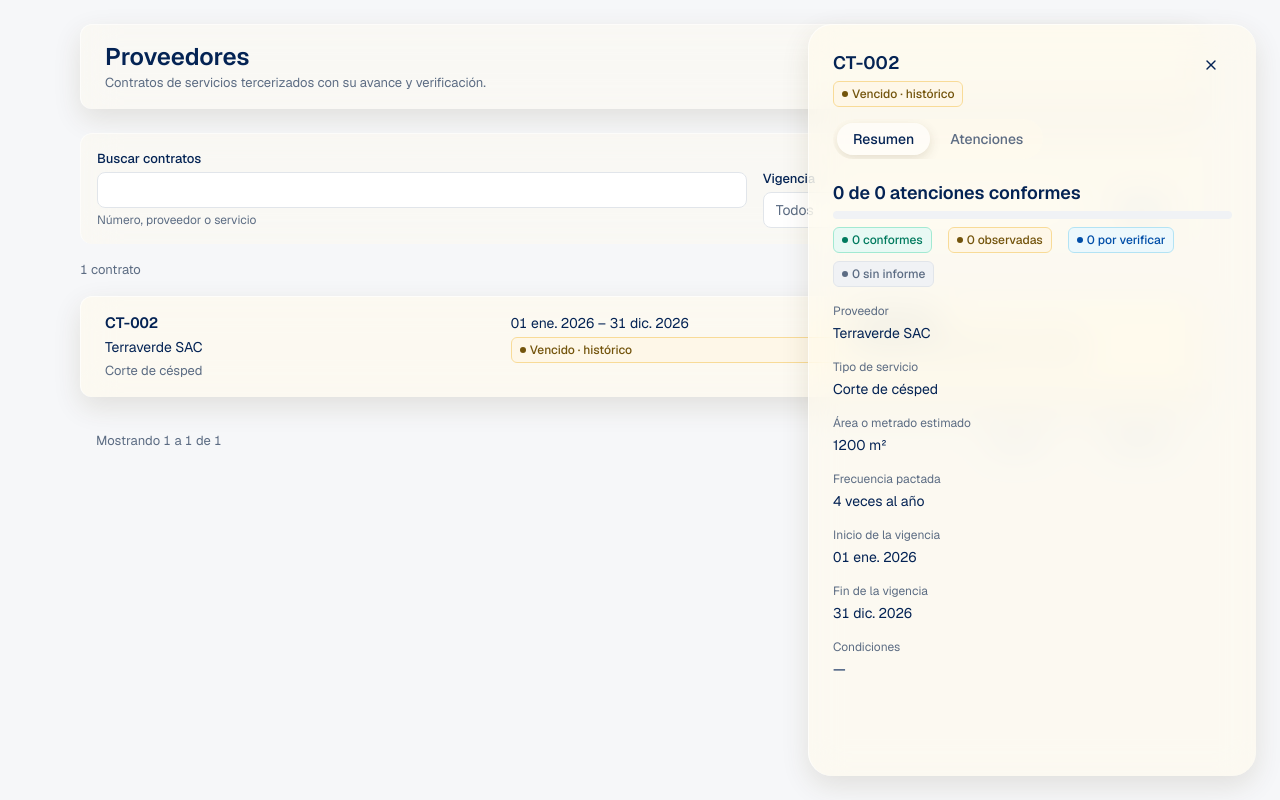
it: Proveedores · contratos (RD-49) › un contrato vencido no ofrece registrar atenciones
Expected: the 1st text "Vencido · histórico" is shown, [852,86,954,102]
Click the tab "Atenciones". click: click(987, 139)
box: [934,123,1039,155]
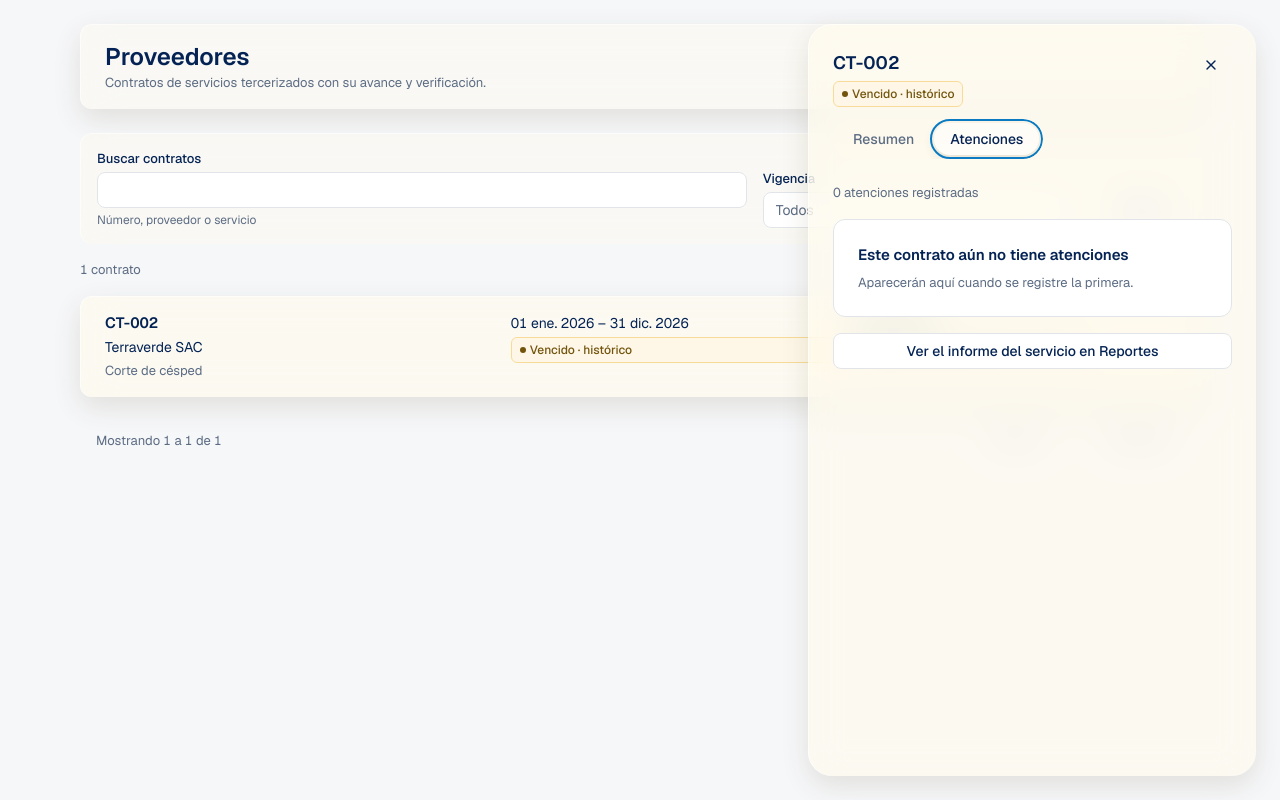
Expected: the heading "Este contrato aún no tiene atenciones" is shown, [858,244,1129,266]
